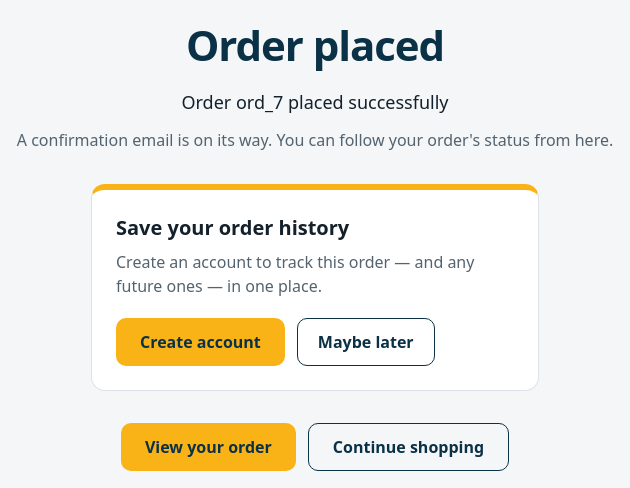
order confirmation › CRITICAL: names the order, and offers a GUEST to keep their order history in an account (their email carried to sign-up); 'Maybe later' closes it
The image size is (630, 488).
Expected: the heading "Order placed" is shown, [186,16,444,73]
Expected: the text "Order ord_7 placed successfully" is shown, [182,90,448,114]
Click the button "Maybe later" at point(366, 342), box [297,318,435,366]
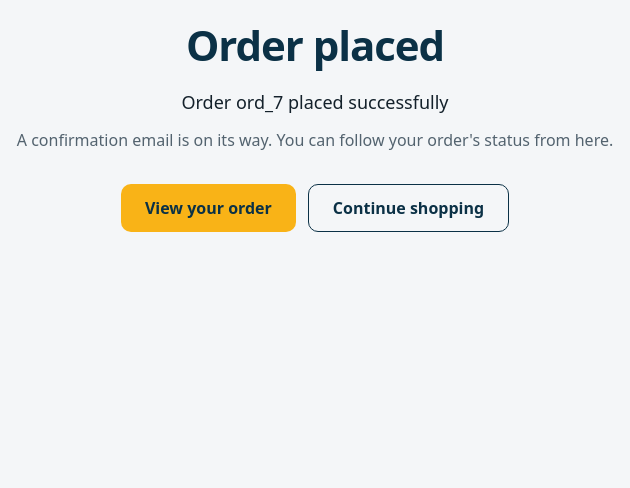
Expected: the heading "Save your order history" is gone
